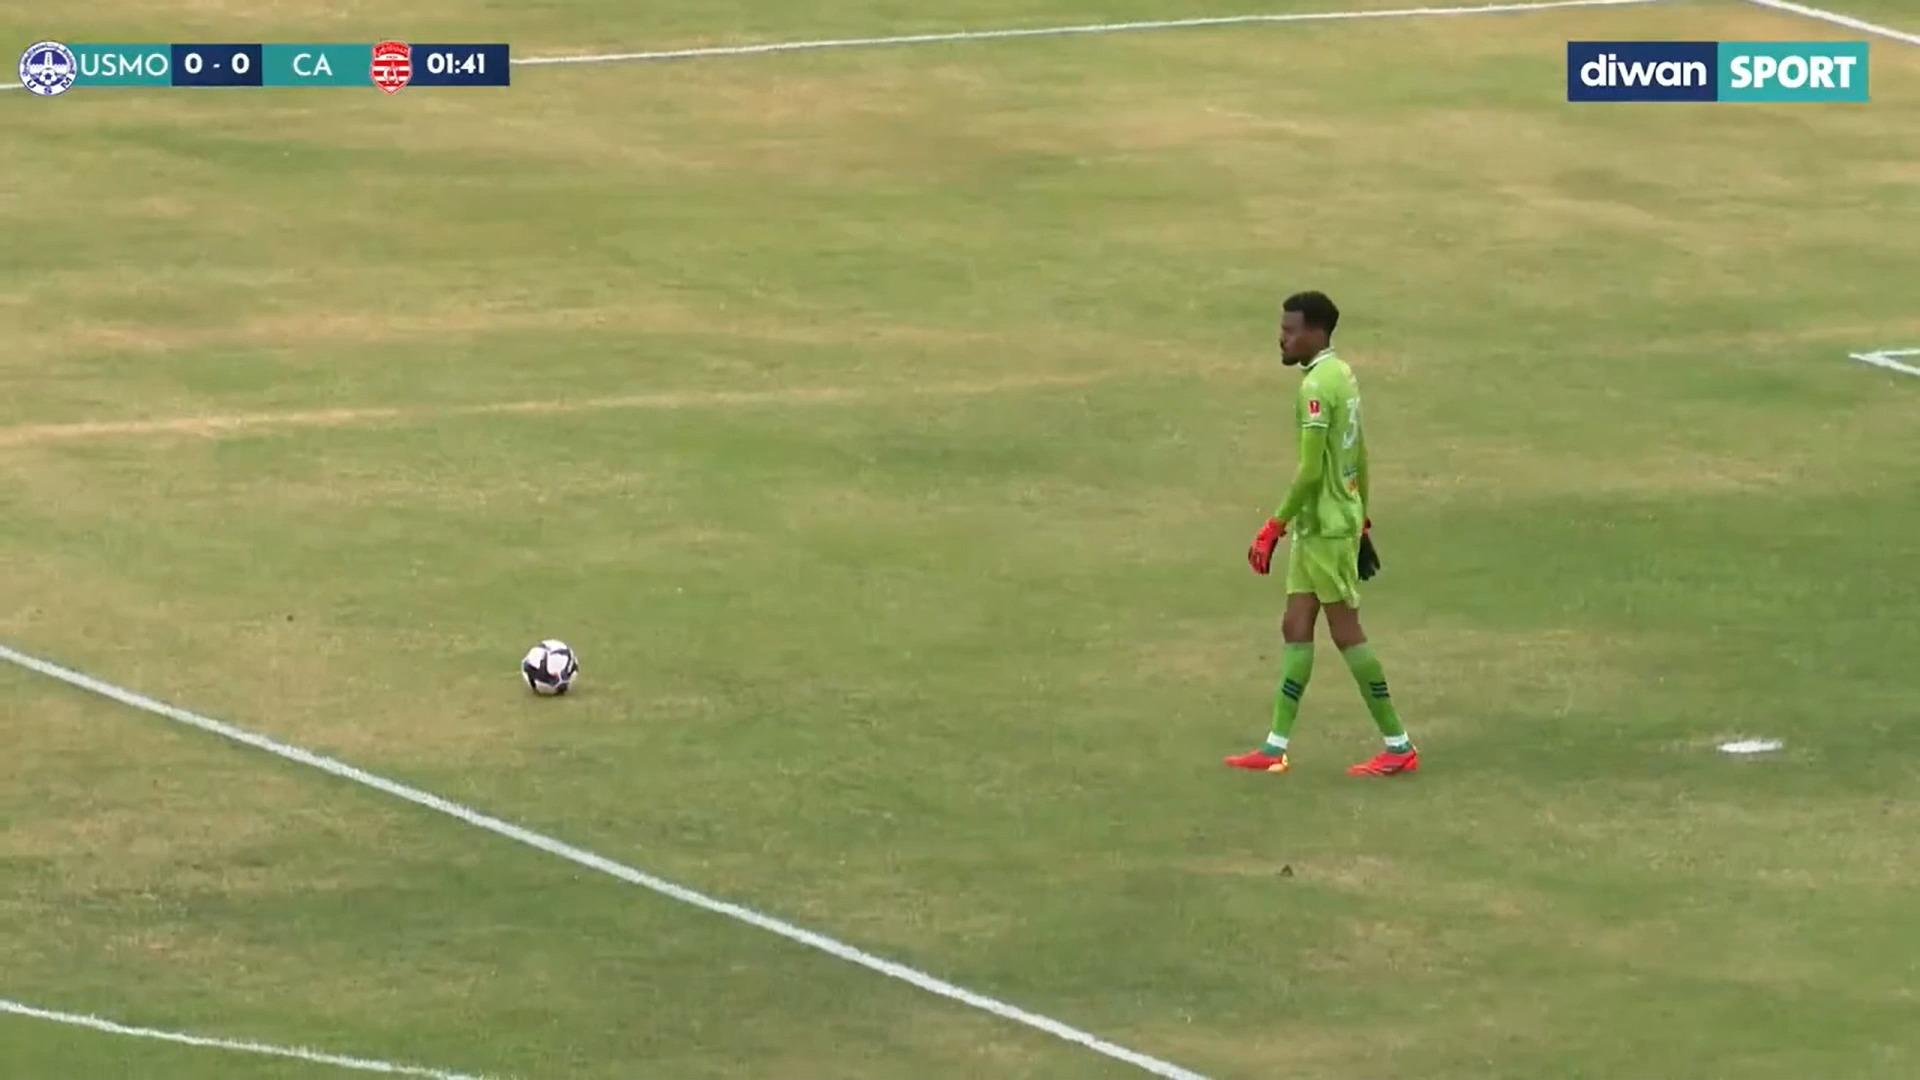ball: (516, 622, 597, 703)
goalkeeper: (1218, 270, 1468, 791)
